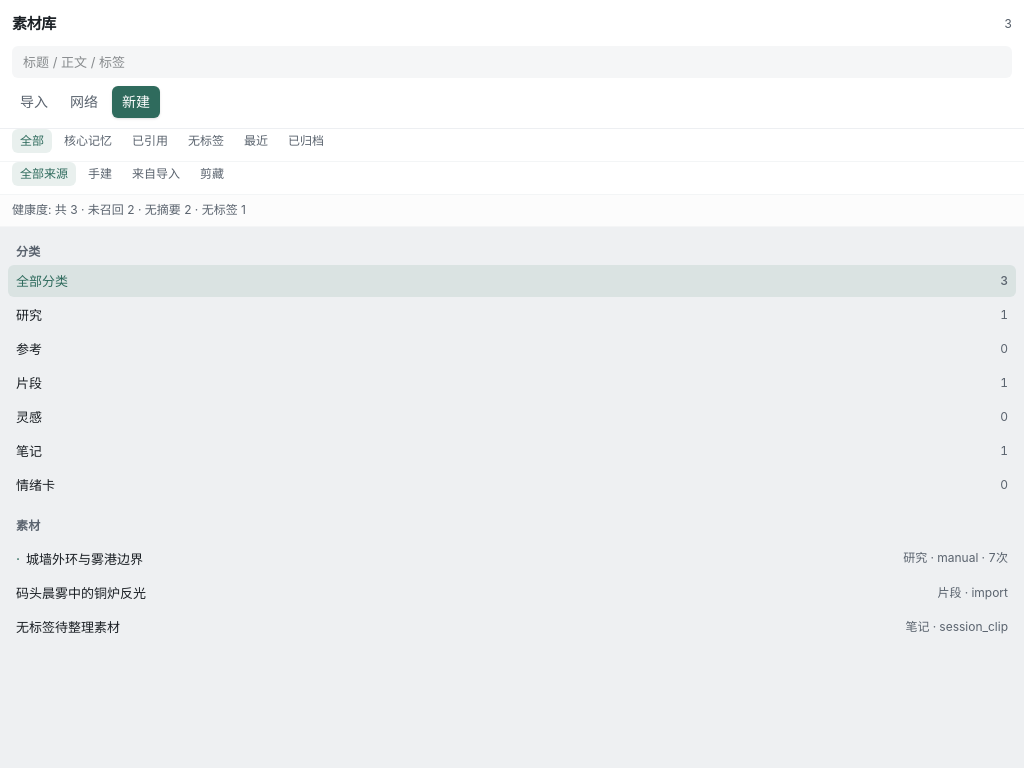
Scenario: MaterialList 素材库工作台 › 智能视图请求服务端 view=pinned 并渲染核心记忆
Click the button "核心记忆": (88, 141) [56, 129, 120, 153]
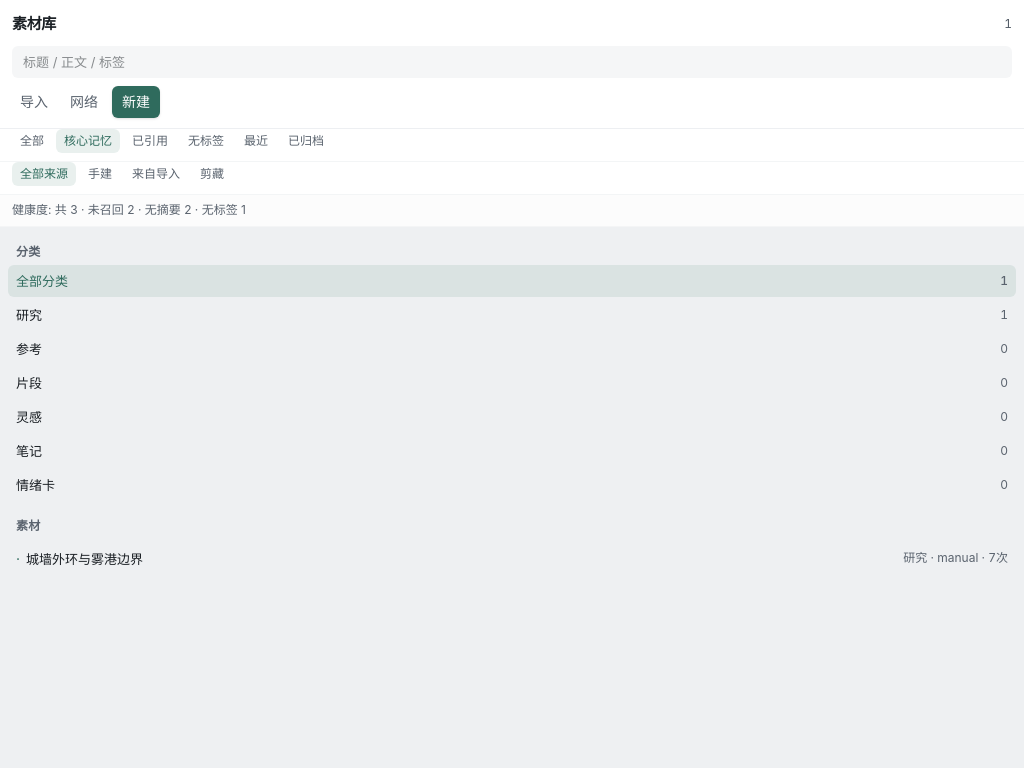
Expected: the button "· 城墙外环与雾港边界 研究 · manual · 7次" is shown, [8, 542, 1016, 576]
Result: the button "码头晨雾中的铜炉反光" is gone
